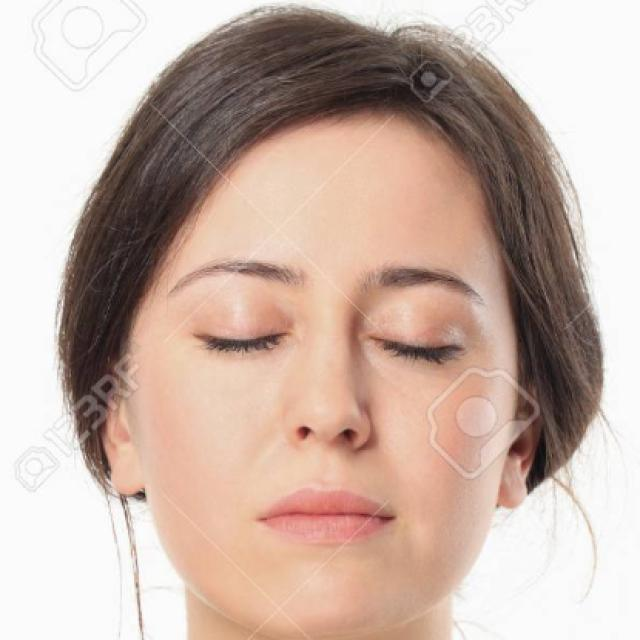close: (349, 248, 506, 392), (160, 249, 326, 381)
